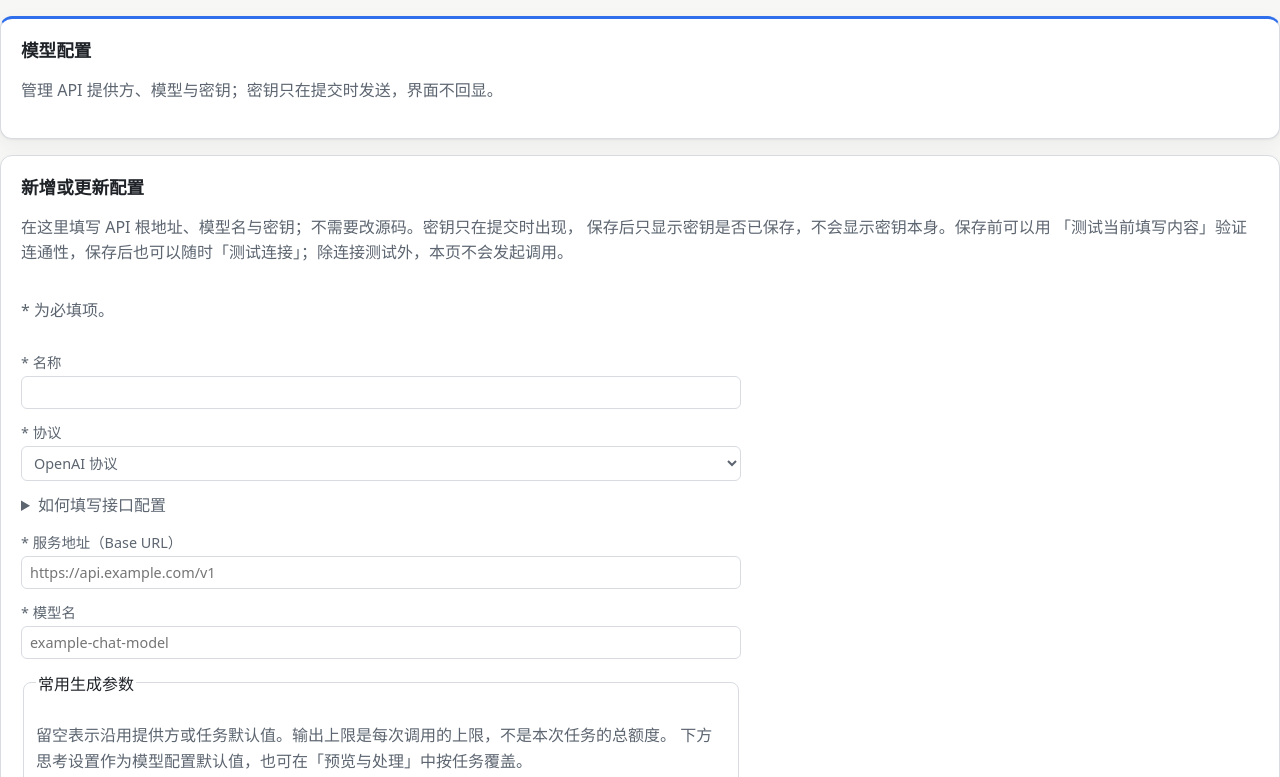
ModelSettingsPage › 空状态说明可配置，并提示连接测试的入口
Expected: the text "保存前可以用" is shown, top-left (21, 216), bottom-right (1247, 263)
Click the heading "如何填写接口配置": point(102, 505) top-left (38, 494), bottom-right (166, 516)
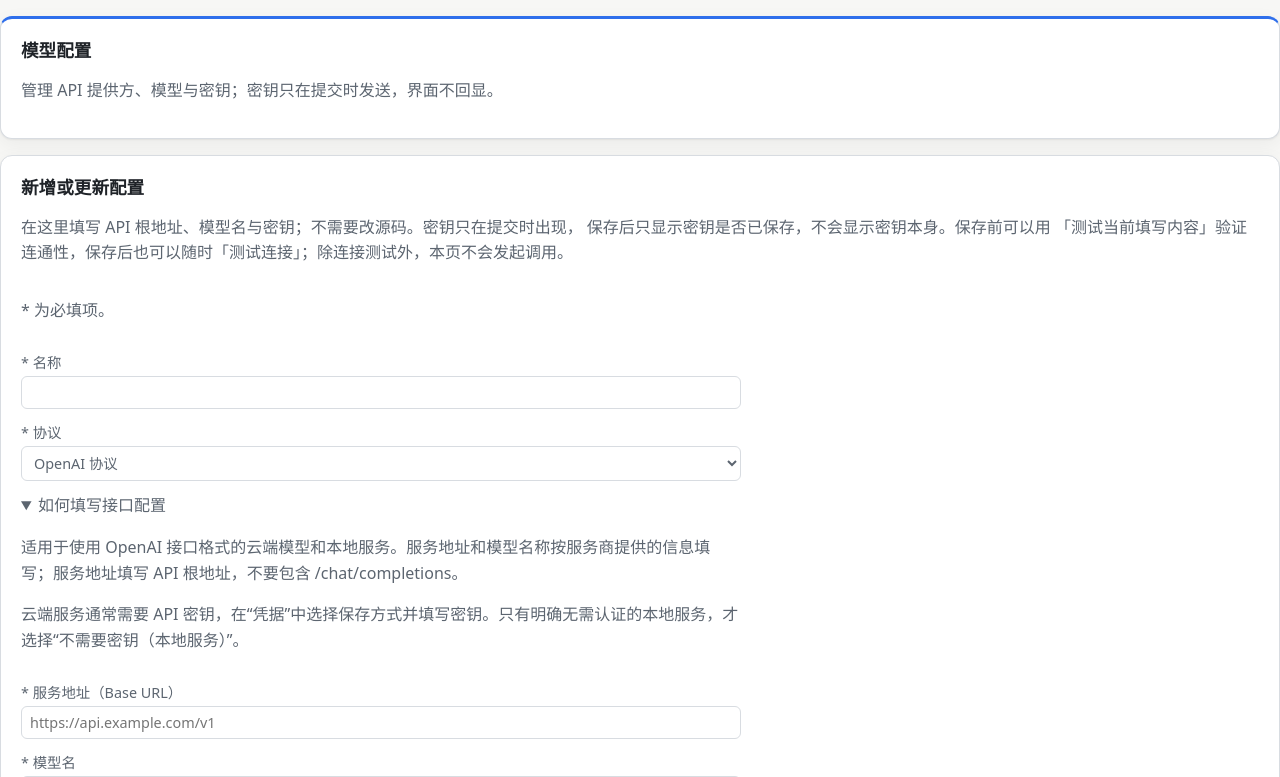
Expected: the element with test id "protocol-capabilities" does not show "https://api.anthropic.com/v1", top-left (21, 493), bottom-right (741, 669)
Expected: the element with test id "protocol-capabilities" shows "云端服务通常需要 API 密钥", top-left (21, 603), bottom-right (738, 651)
Expected: the element with test id "protocol-capabilities" shows "只有明确无需认证的本地服务", top-left (21, 603), bottom-right (738, 651)
Select "模拟服务（仅测试，不调用模型）" in the dropdown with test id "profile-protocol": point(381, 464) top-left (21, 446), bottom-right (741, 481)
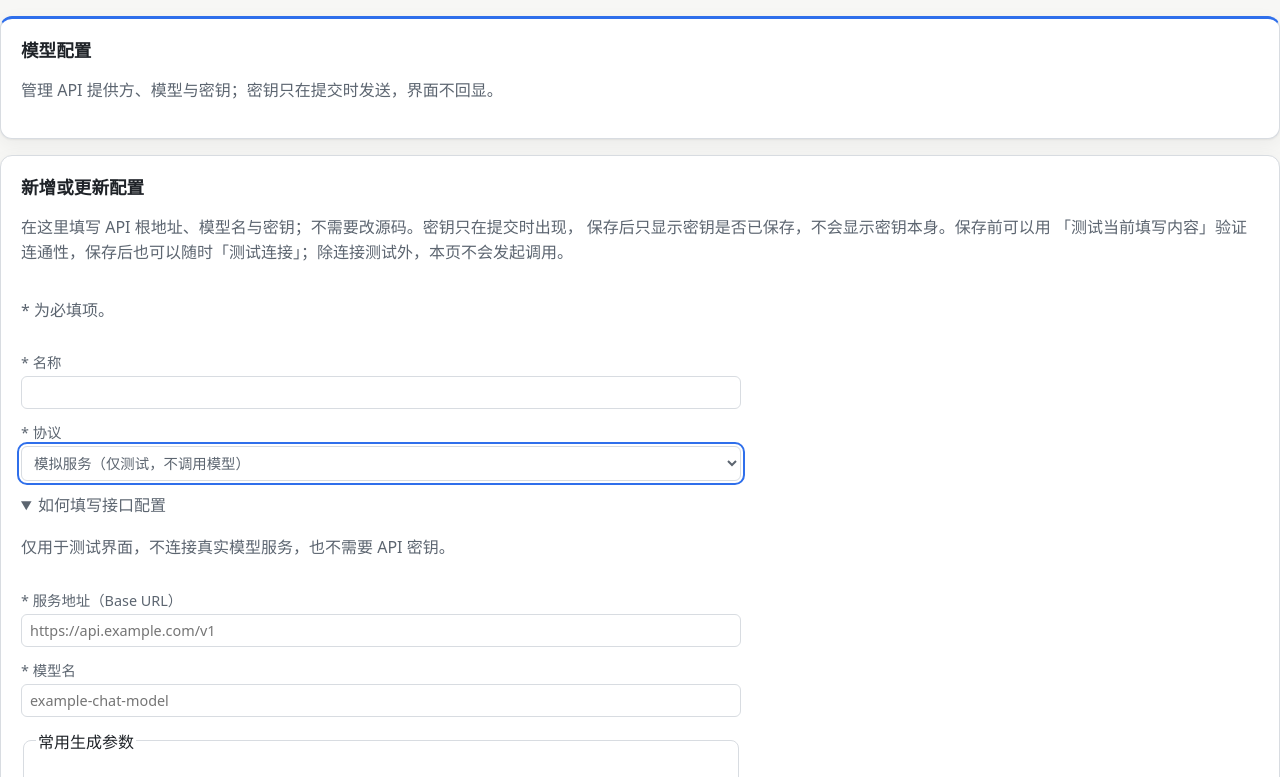
Expected: the element with test id "protocol-capabilities" does not show "https://api.anthropic.com/v1", top-left (21, 494), bottom-right (455, 558)
Expected: the element with test id "protocol-capabilities" shows "不连接真实模型服务，也不需要 API 密钥", top-left (21, 536), bottom-right (455, 558)
Expected: the element with test id "protocol-capabilities" no longer shows "云端服务通常需要 API 密钥", top-left (21, 494), bottom-right (455, 558)
